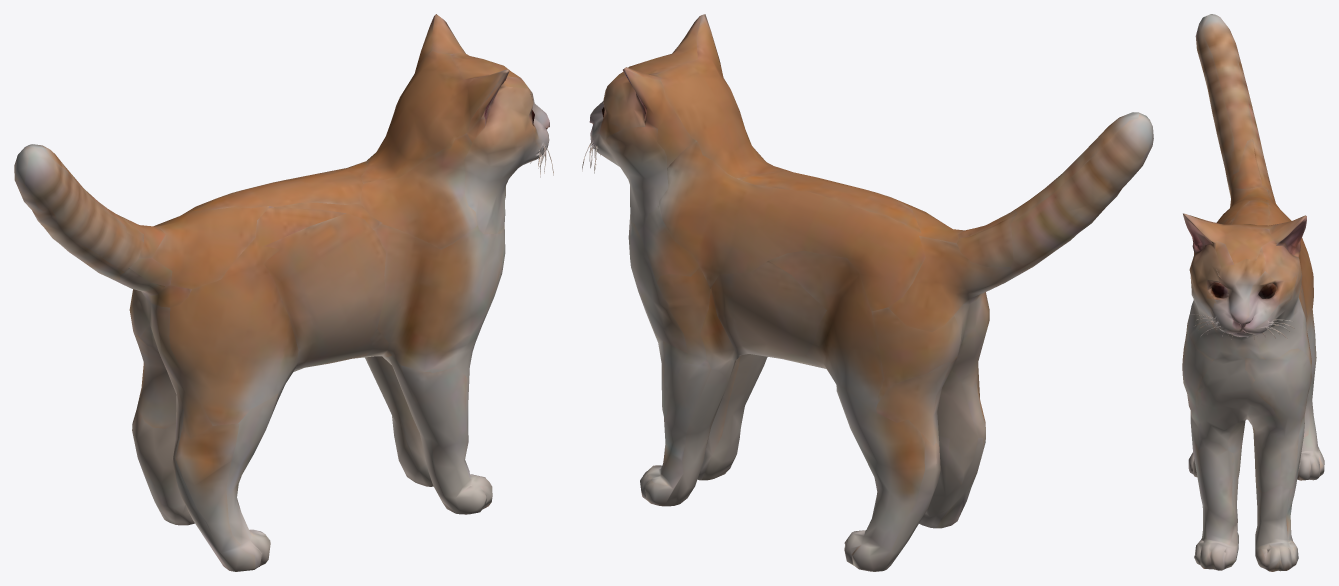
The model's file is GANYHOUSE-lo.glb.
3 renders of one model, left to right at view 1: azimuth 30°, elevation 25°; view 2: azimuth 150°, elevation 25°; view 3: azimuth 270°, elevation 25°, orthographic. The views are drawn at different scales.
Visible parts, largest first — view 1: material; view 2: material; view 3: material.
Part boxes in pixels (x1,y1,x2,y2): material: [14, 14, 553, 571]; material: [582, 14, 1153, 571]; material: [1182, 14, 1324, 571].
Bounding box in the file's own units: 1.23 × 0.9989 × 0.3415.
Materials: 1 (1 with a texture image).
